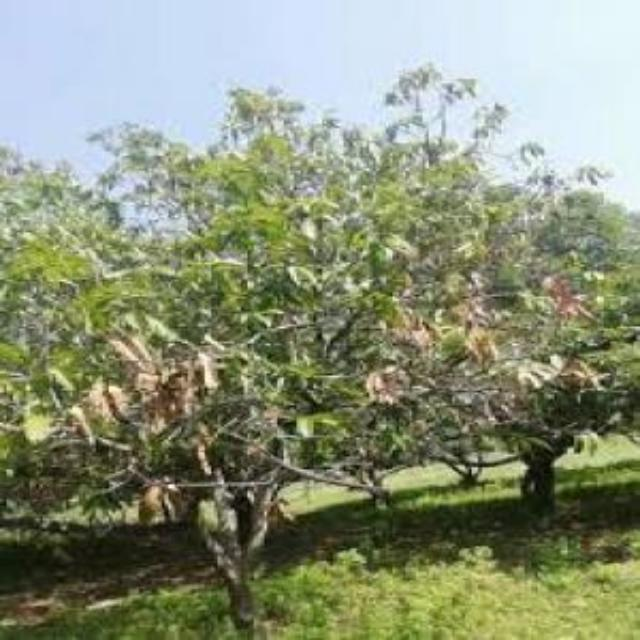tree: (4, 63, 616, 632)
